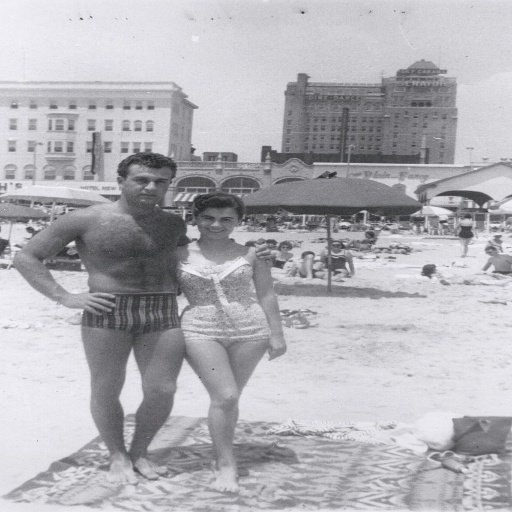hand: (46, 287, 109, 320), (251, 236, 276, 264), (264, 332, 288, 361)
